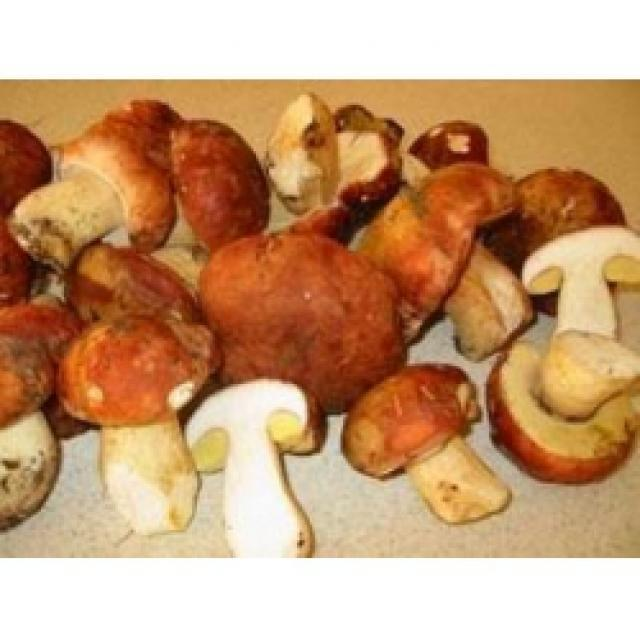Boletus: (204, 236, 400, 406), (56, 313, 210, 529), (352, 188, 527, 359), (343, 364, 510, 522), (187, 376, 318, 556), (492, 341, 640, 476), (23, 140, 172, 255), (528, 222, 638, 344), (0, 335, 67, 523)
